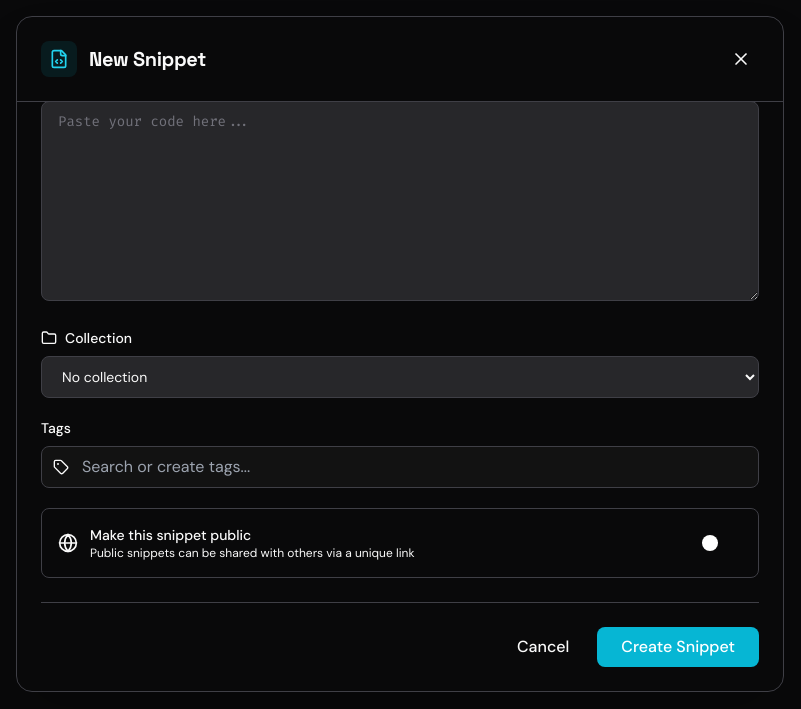
Scenario: SnippetForm › shows validation error for empty title
This screenshot has width=801, height=709.
(page scrolled)
Click the button "Create Snippet".
click(678, 647)  # box [597, 627, 759, 667]
(page scrolled)
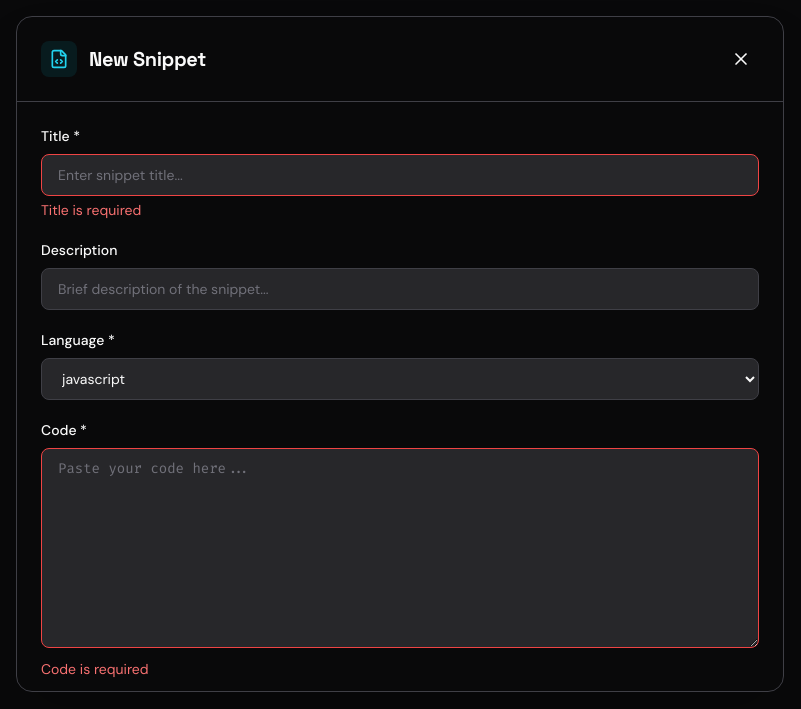
Expected: the text "Title is required" is shown, [41, 201, 141, 219]
